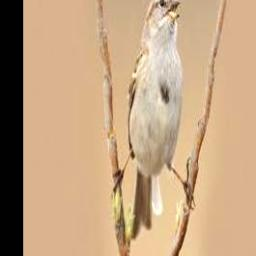Sparrow: (113, 0, 195, 238)
